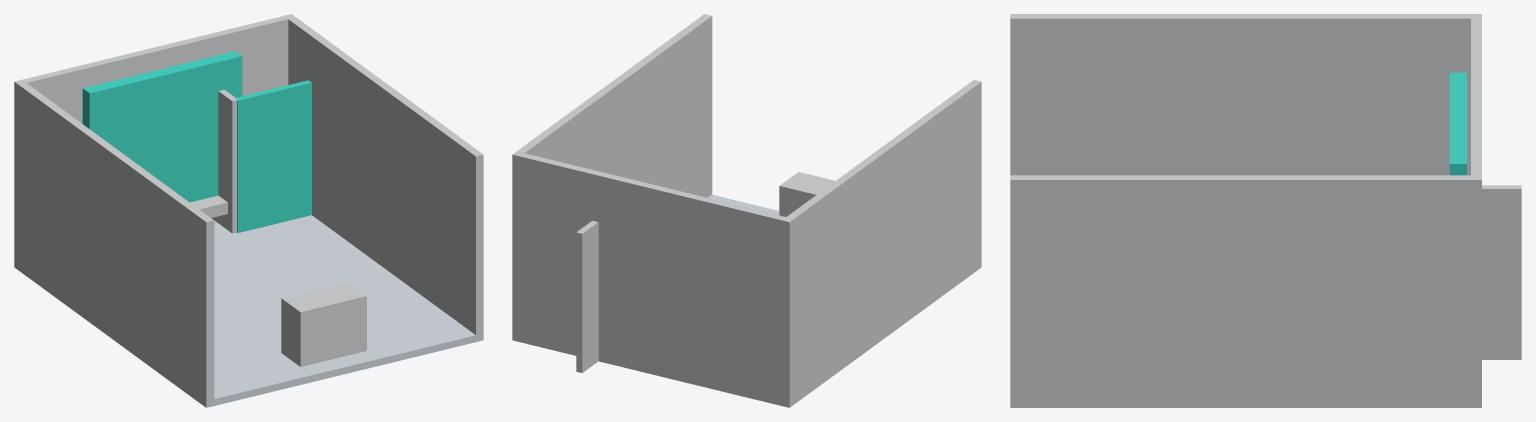
The picture shows the model from 3 angles, left to right: view 1: azimuth 30°, elevation 25°; view 2: azimuth 150°, elevation 25°; view 3: azimuth 270°, elevation 25°; orthographic projection. The views are drawn at different scales.
Visible parts, largest first — view 1: Exhibition Booth Concept; view 2: Exhibition Booth Concept; view 3: Exhibition Booth Concept.
Boxes of the visible parts, x1,y1,x2,y2 form: Exhibition Booth Concept: [14, 14, 483, 407]; Exhibition Booth Concept: [512, 14, 981, 407]; Exhibition Booth Concept: [1010, 14, 1521, 407].
Bounding box in the file's own units: 5 × 3.2 × 6.51.
